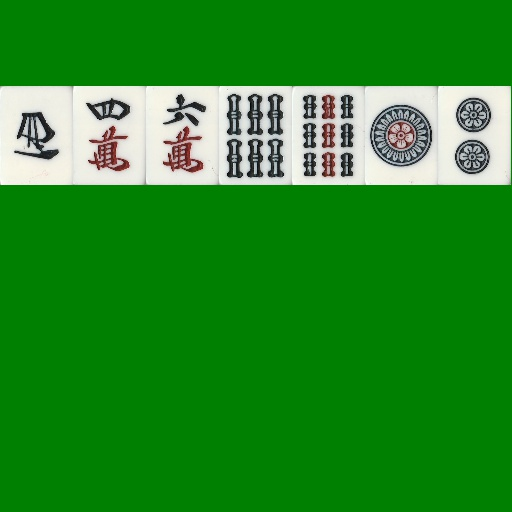1p: (365, 86, 438, 185)
2p: (438, 86, 511, 185)
4m: (73, 86, 146, 185)
6m: (146, 86, 219, 185)
6s: (219, 86, 292, 185)
9s: (292, 86, 365, 185)
west: (0, 86, 73, 185)
